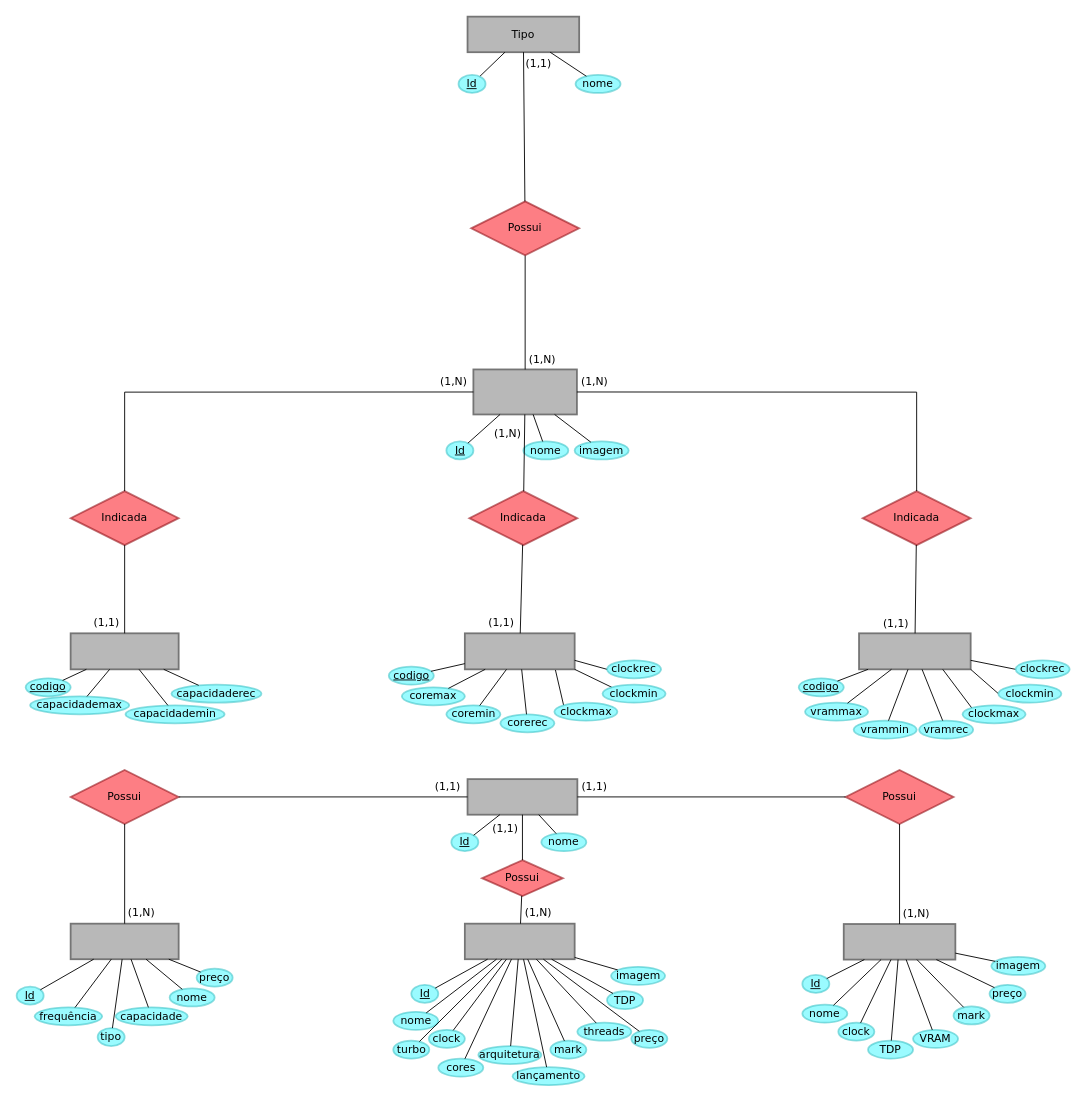
The diagram is 1085 pixels wide and 1102 high, and some of its shapes have lost their labels. The centre of each missing label's shape, as x and y in pixels:
GPU: the point at 899,941
Marcas: the point at 522,796
Processador: the point at 519,941
RAM: the point at 124,941
RecomendaçãoCPU: the point at 519,651
RecomendaçãoGPU: the point at 914,651
RecomendaçãoRAM: the point at 124,651
Software: the point at 524,391
